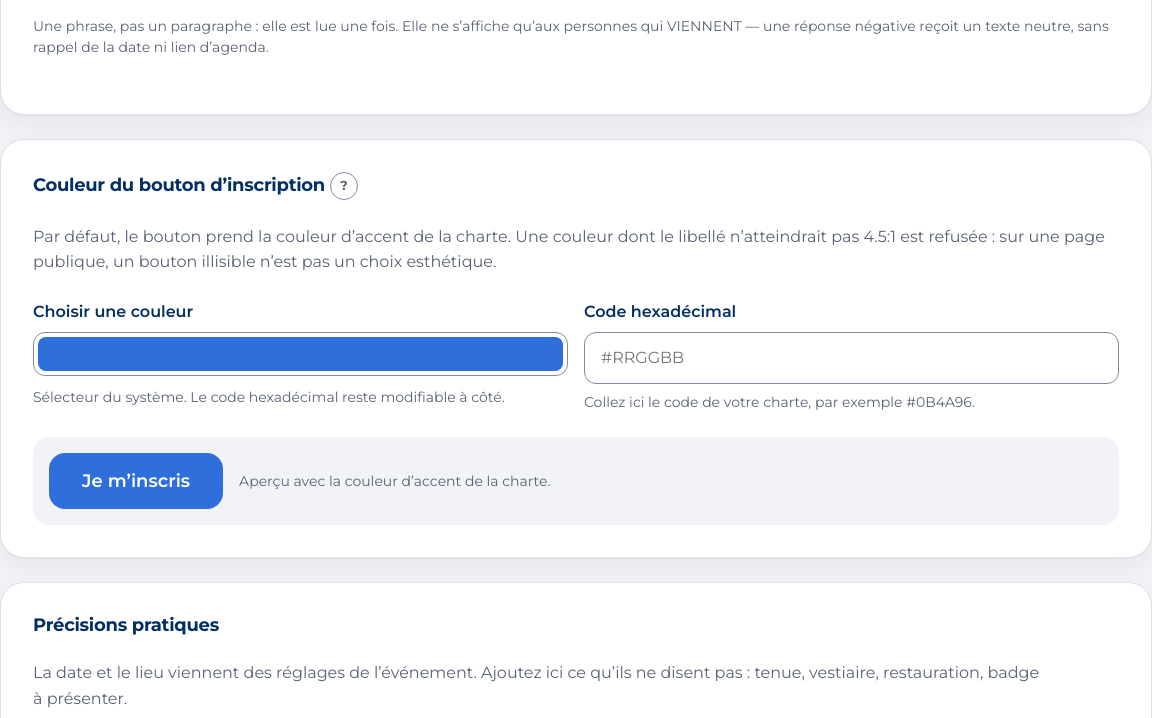
it: couleur du bouton › annonce le contraste mesuré quand la couleur convient
This screenshot has width=1152, height=718.
(page scrolled)
Type "#0B4A96" into the field labelled "Code hexadécimal".
click(852, 358); type("#0B4A96")  # box top-left (584, 332), bottom-right (1119, 384)
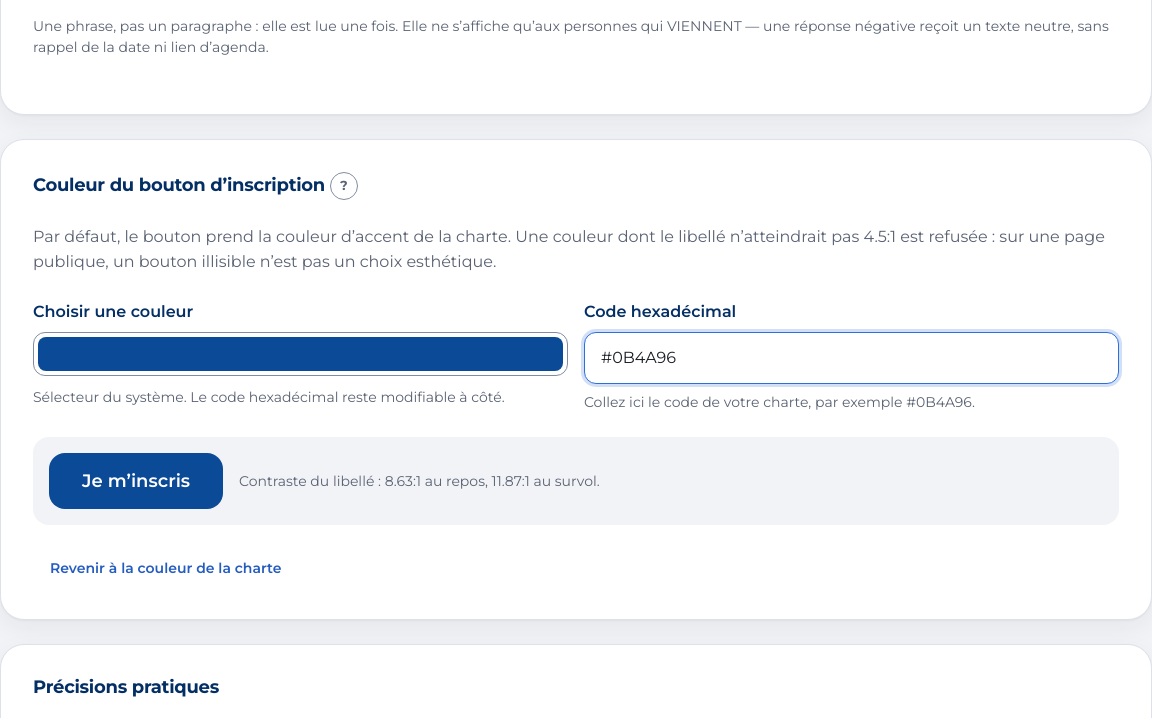
Now the text "Contraste du libellé : 8.63:1 au repos, 11.87:1 au survol." is shown, box top-left (239, 471), bottom-right (600, 492)
